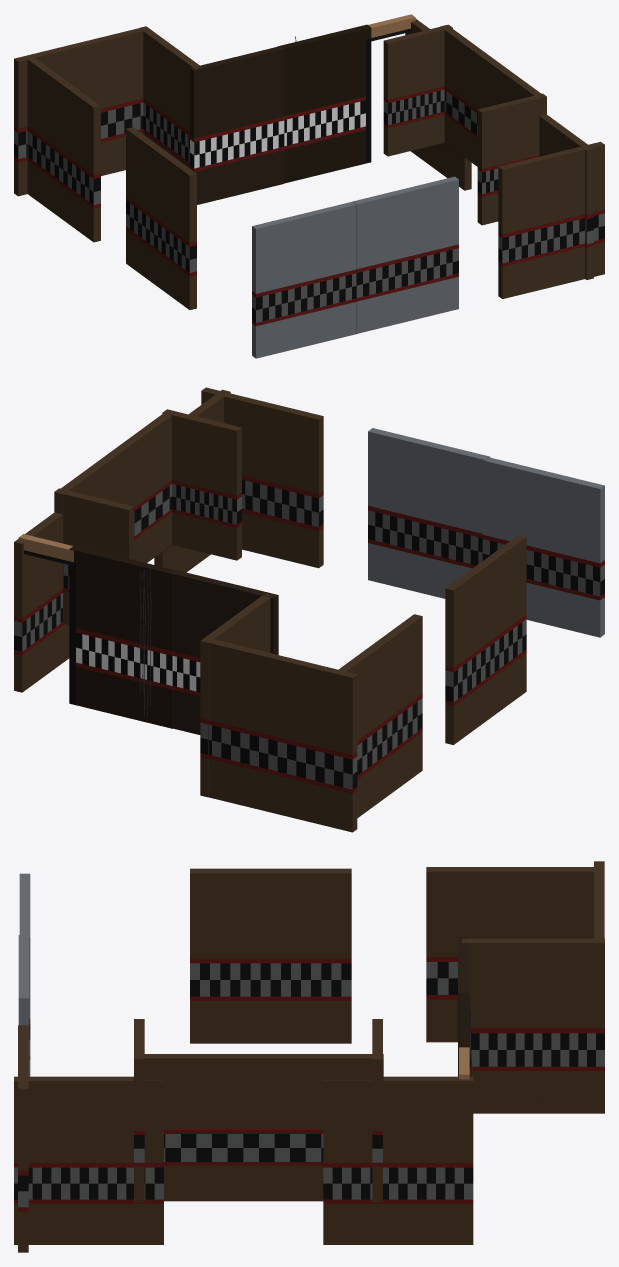
Rendered from ENVIRONMENT_PARTY_WALL.fbx.
3 renders of one model, top to bottom at view 1: azimuth 30°, elevation 25°; view 2: azimuth 150°, elevation 25°; view 3: azimuth 270°, elevation 25°, orthographic. The views are drawn at different scales.
Parts seen in each view (by area): view 1: Cube.166, Cube.167, Cube.233, Cube.011, Cube.023, Cube.016, Cube.006, Cube.017, Cube.217, Cube.216, Cube.018, Cube.218 (+3 smaller); view 2: Cube.017, Cube.023, Cube.167, Cube.166, Cube.233, Cube.006, Cube.016, Cube.218, Cube.216, Cube.011, Cube.222, Cube.217 (+4 smaller); view 3: Cube.006, Cube.216, Cube.222, Cube.018, Cube.232, Cube.016, Cube.233, Cube.217, Cube.218, Cube.167, Cube.166, Cube.017 (+2 smaller).
Boxes of the visible parts, <box> form: Cube.166: <box>252,201,357,358</box>; Cube.167: <box>352,176,458,333</box>; Cube.233: <box>498,141,604,298</box>; Cube.011: <box>190,46,284,204</box>; Cube.023: <box>277,24,371,183</box>; Cube.016: <box>25,56,100,242</box>; Cube.006: <box>126,127,196,309</box>; Cube.017: <box>14,27,147,196</box>; Cube.217: <box>383,24,452,156</box>; Cube.216: <box>440,25,545,166</box>; Cube.018: <box>139,26,202,168</box>; Cube.218: <box>477,93,546,225</box>; Cube.017: <box>207,638,357,832</box>; Cube.023: <box>69,545,176,728</box>; Cube.167: <box>368,428,490,598</box>; Cube.166: <box>482,457,604,637</box>; Cube.233: <box>201,387,323,568</box>; Cube.006: <box>445,535,526,744</box>; Cube.016: <box>335,614,422,818</box>; Cube.218: <box>162,409,241,560</box>; Cube.216: <box>55,410,174,623</box>; Cube.011: <box>172,570,278,734</box>; Cube.222: <box>14,512,69,692</box>; Cube.217: <box>54,488,133,624</box>; Cube.006: <box>190,868,351,1043</box>; Cube.216: <box>134,1054,383,1201</box>; Cube.222: <box>323,1076,473,1244</box>; Cube.018: <box>462,938,604,1113</box>; Cube.232: <box>14,1076,163,1244</box>; Cube.016: <box>426,867,603,1042</box>; Cube.233: <box>18,1025,28,1252</box>; Cube.217: <box>372,1019,382,1202</box>; Cube.218: <box>134,1019,144,1202</box>; Cube.167: <box>18,935,29,1076</box>; Cube.166: <box>19,873,30,1076</box>; Cube.017: <box>594,861,604,941</box>.
Bounding box in the file's own units: 1872 × 736 × 2105.
